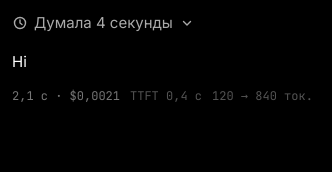
Test case: AnswerCell › toggles thinking on click
Click the button "Думала 4 секунды" at (103, 23), box [12, 12, 195, 34]
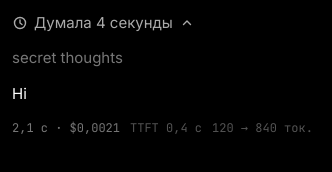
Now the text "secret thoughts" is shown, box [12, 48, 123, 67]
